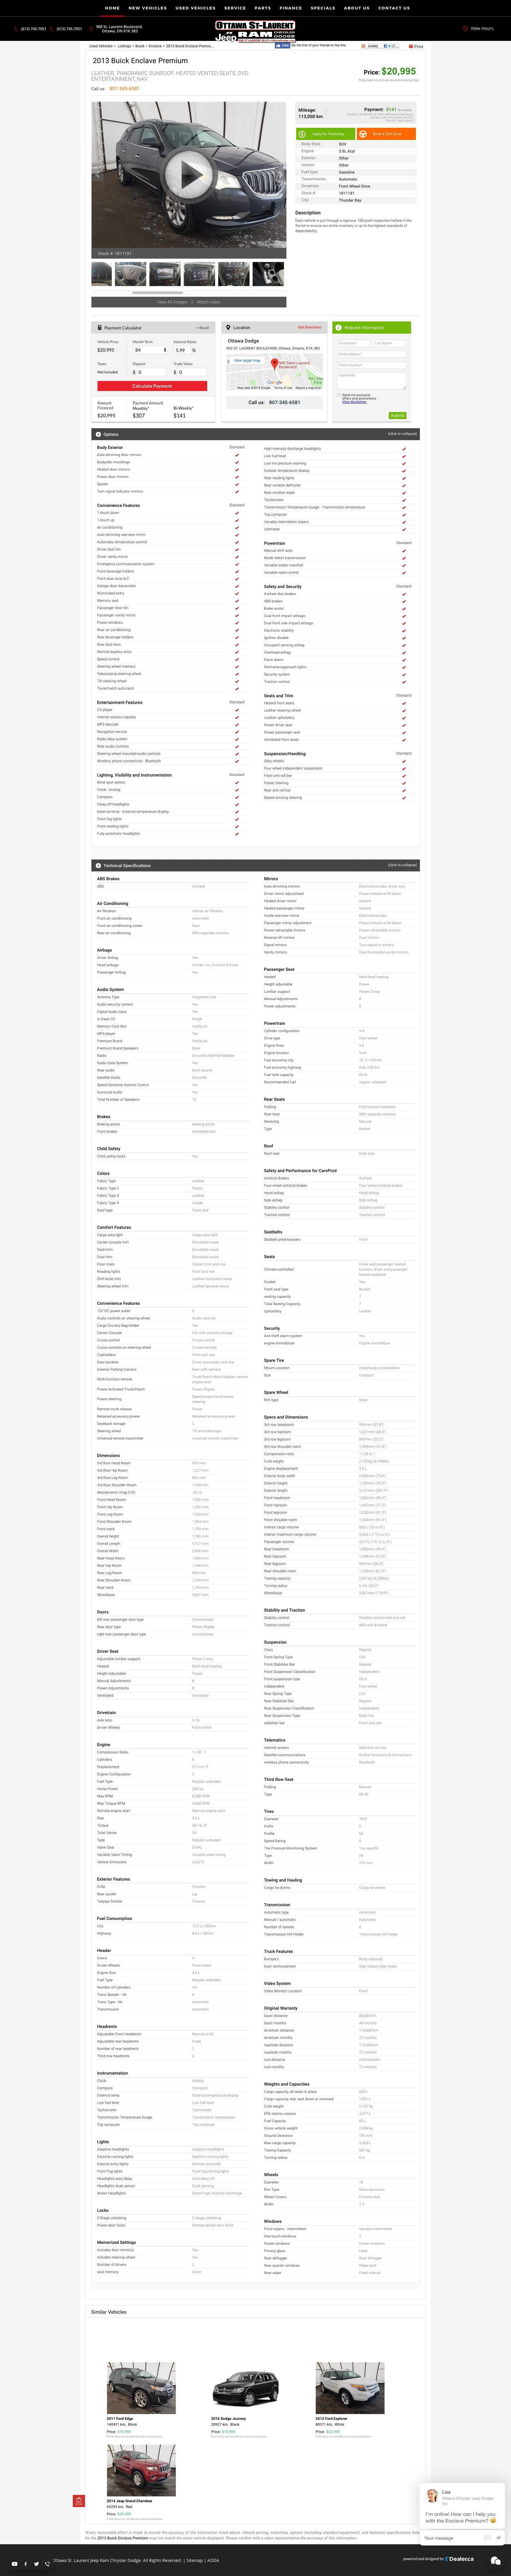car: (278, 171, 284, 181)
